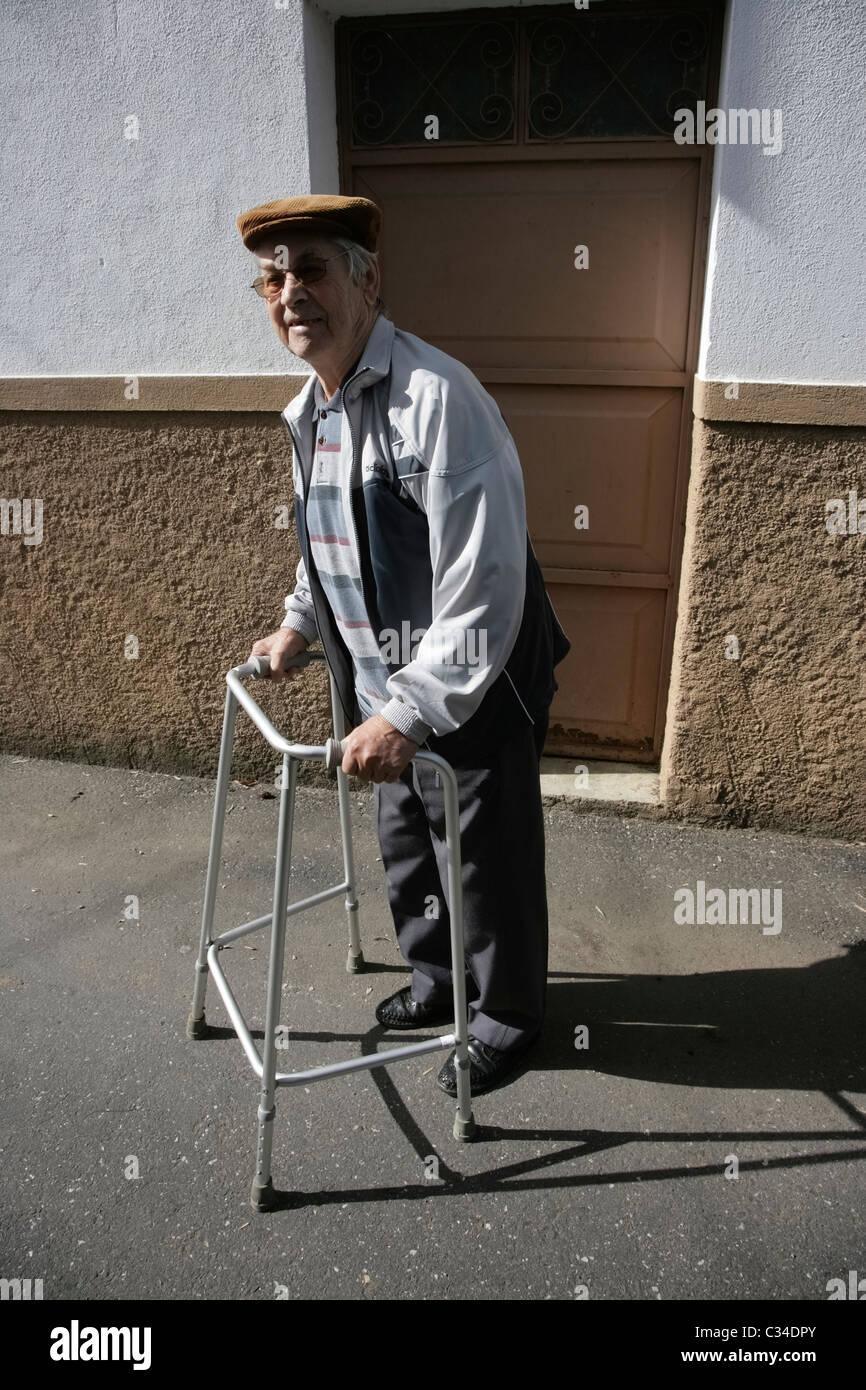walking_frame: (186, 195, 573, 1213)
